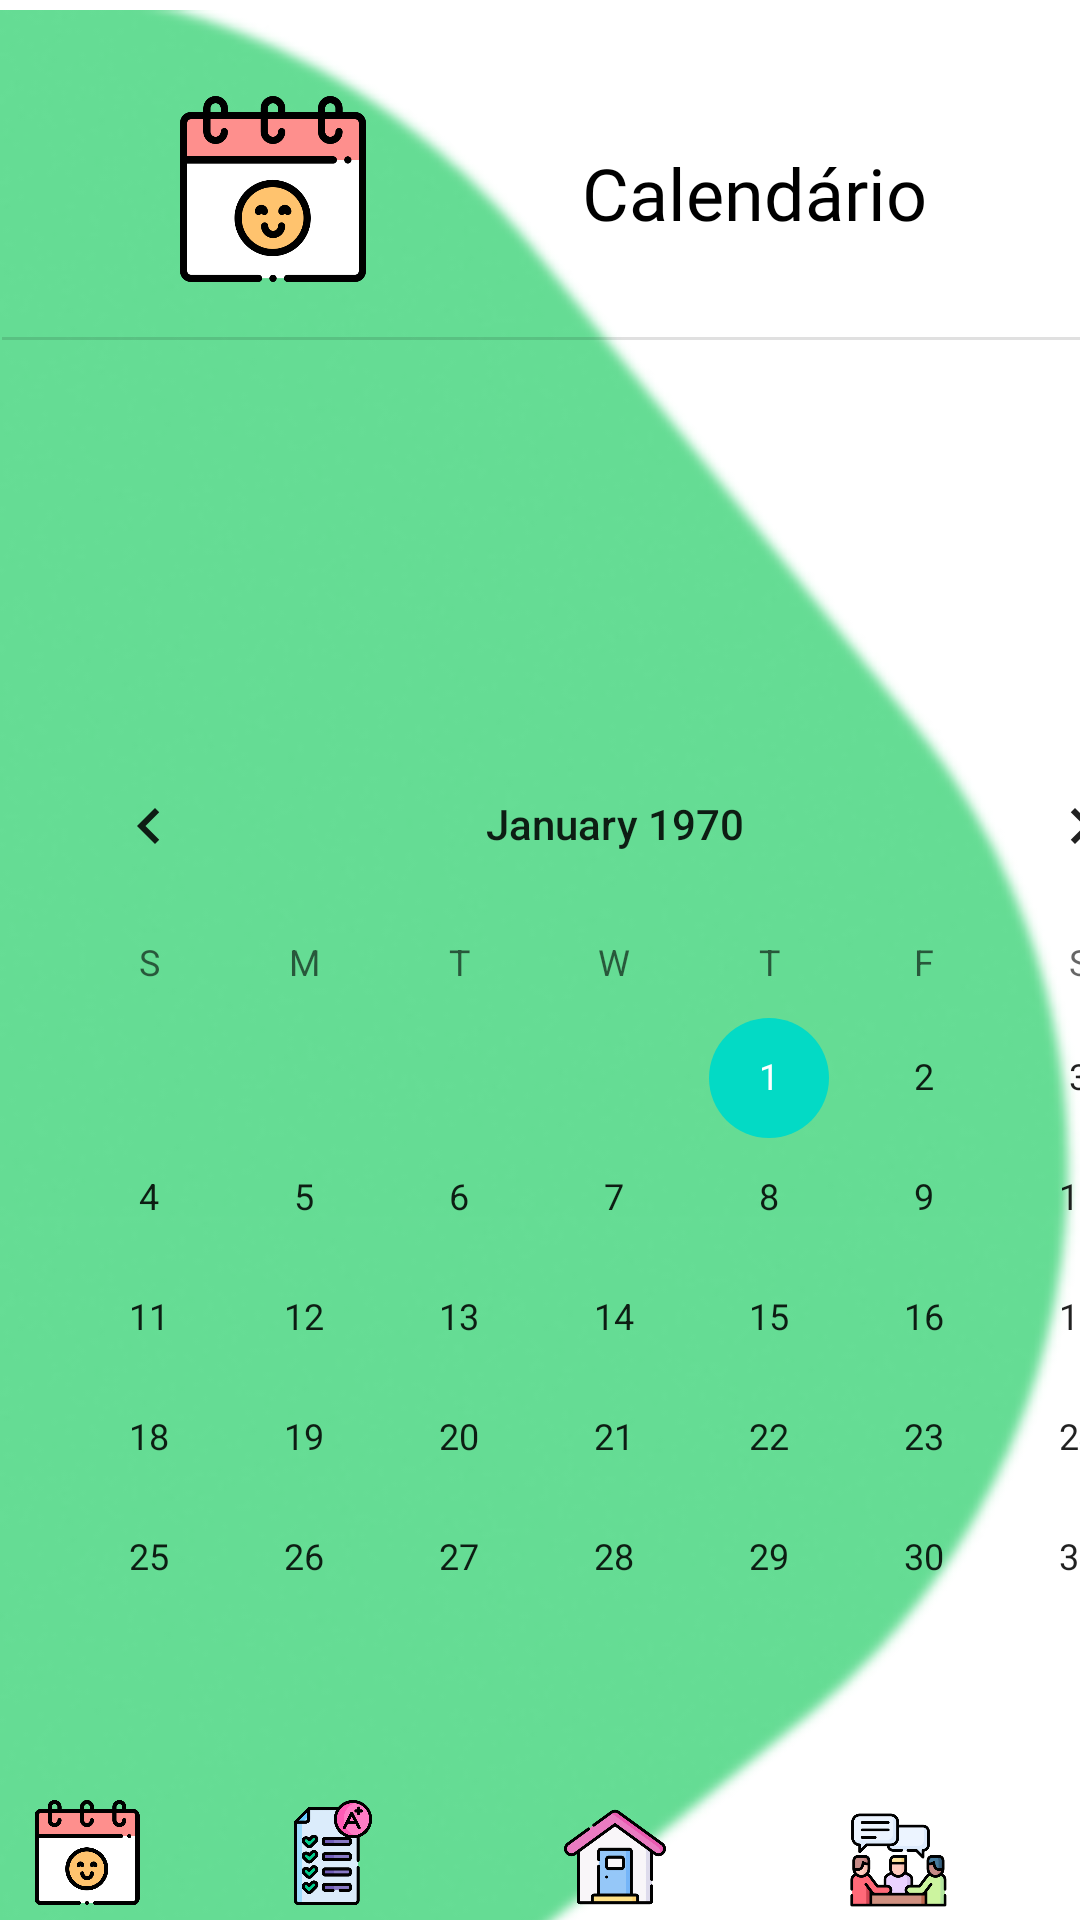

Point at icon controls on the screen. Image size 1080*1920, points as (x=x, y=y).
bdenavecagao calendario: (x=273, y=189), (x=87, y=1852)
bdenavecagao home: (x=615, y=1855)
bdenavecagao talkprofessor: (x=898, y=1860)
notas: (x=333, y=1852)
